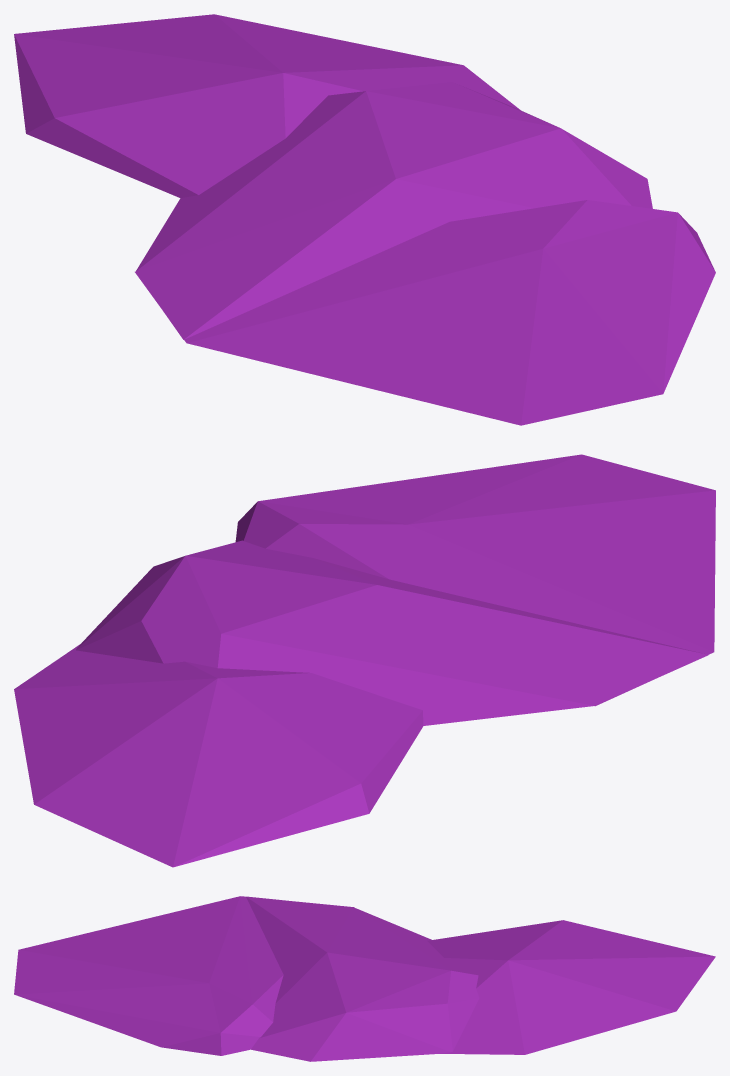
The model's file is Ground_02_Collider_01.FBX.
3 views of the same model, one above another, from view 1: azimuth 30°, elevation 25°; view 2: azimuth 150°, elevation 25°; view 3: azimuth 270°, elevation 25° (orthographic). The views are drawn at different scales.
Parts seen in each view (by area): view 1: COLLIDER_3, COLLIDER_1, COLLIDER_2; view 2: COLLIDER_2, COLLIDER_1, COLLIDER_3; view 3: COLLIDER_3, COLLIDER_1, COLLIDER_2.
Boxes of the visible parts, left/top/right/bottom form: COLLIDER_3: left=135, top=200, right=715, bottom=425; COLLIDER_1: left=136, top=82, right=652, bottom=339; COLLIDER_2: left=14, top=14, right=519, bottom=198; COLLIDER_2: left=14, top=644, right=423, bottom=867; COLLIDER_1: left=76, top=540, right=708, bottom=725; COLLIDER_3: left=235, top=454, right=715, bottom=706; COLLIDER_3: left=14, top=896, right=354, bottom=1055; COLLIDER_1: left=246, top=896, right=479, bottom=1061; COLLIDER_2: left=427, top=920, right=715, bottom=1054.
Size of the model in its own units: 148 by 14.47 by 265.
